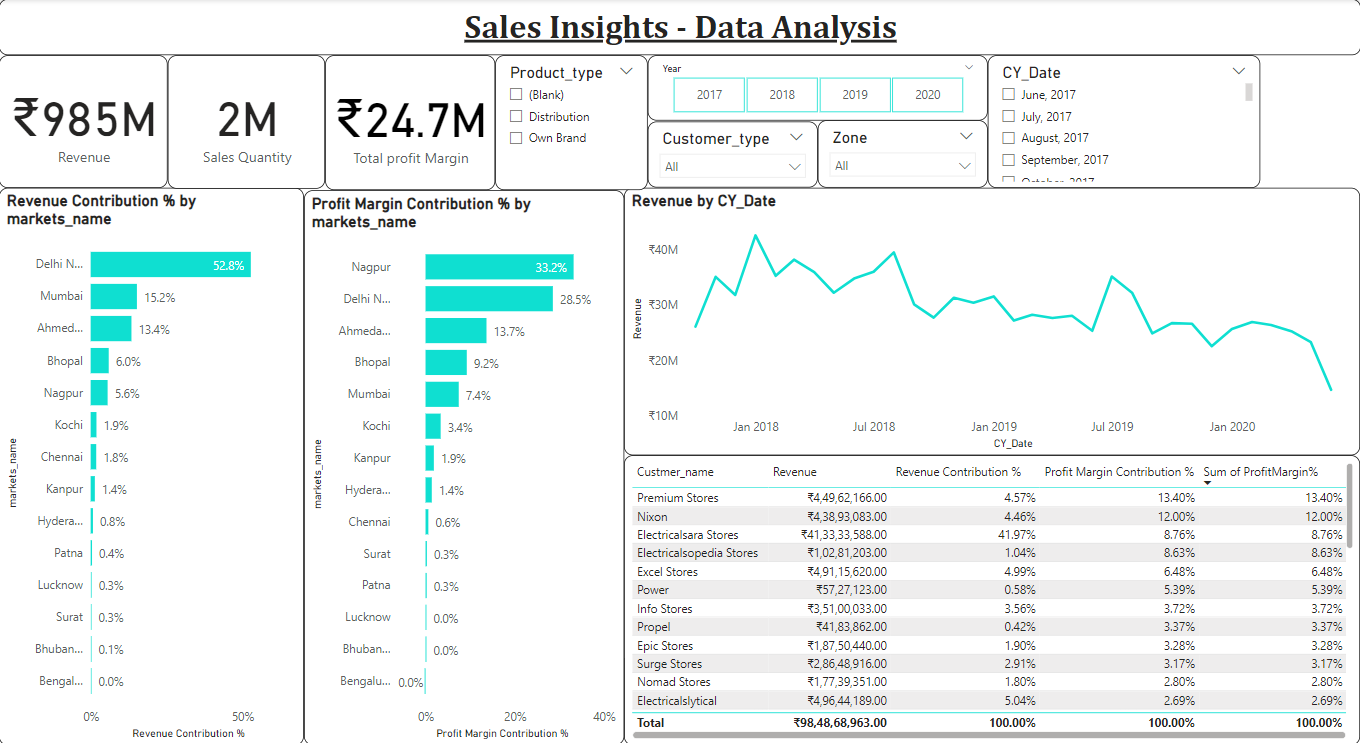

What the dashboard file says about the page in this screenshot:
{"tool":"powerbi","page":{"name":"Performance Analysis Insights","canvas":[1550,850],"ordinal":2},"visuals":[{"type":"clusteredBarChart","title":"Revenue Contribution % by markets_name","fields":{"Y":["Basic Measures.Revenue Contribution %"],"Category":["sales market.markets_name"]},"box":[0,215,347.4,635],"z":0},{"type":"clusteredBarChart","title":"Profit Margin Contribution % by markets_name","fields":{"Category":["sales market.markets_name"],"Y":["Basic Measures.Profit Margin Contribution %"]},"box":[347.4,217.8,364.5,632.2],"z":1000},{"type":"tableEx","fields":{"Values":["sales Customer.custmer_name","Basic Measures.Revenue","Basic Measures.Revenue Contribution %","Basic Measures.Profit Margin Contribution %","Sum(sales transactions.ProfitMargin%)"]},"box":[711.9,519.7,838.6,330.3],"z":2000},{"type":"card","fields":{"Values":["Basic Measures.Revenue"]},"box":[0,64.1,192.2,150.9],"z":3000},{"type":"card","fields":{"Values":["Sum(sales transactions.sales_qty)"]},"box":[192.2,64.1,179.4,152.3],"z":4000},{"type":"card","fields":{"Values":["Sum(sales transactions.Profit_Margin)"]},"box":[371.6,64.1,193.6,153.8],"z":5000},{"type":"lineChart","title":"Revenue by CY_Date","fields":{"Y":["Basic Measures.Revenue"],"Category":["sales Date.cy_date.Variation.Date Hierarchy.Year","sales Date.cy_date.Variation.Date Hierarchy.Quarter","sales Date.cy_date.Variation.Date Hierarchy.Month","sales Date.cy_date.Variation.Date Hierarchy.Day"]},"box":[711.9,215,838.6,304.7],"z":6000},{"type":"textbox","box":[0,0,1551,63.9],"z":7000},{"type":"slicer","fields":{"Values":["sales Date.year"]},"box":[738.9,64.1,387.3,74],"z":8000},{"type":"slicer","fields":{"Values":["sales product.product_type"]},"box":[565.2,64.1,173.7,153.8],"z":9000},{"type":"slicer","fields":{"Values":["sales Customer.customer_type"]},"box":[738.9,139.5,193.6,75.5],"z":10000},{"type":"slicer","fields":{"Values":["sales market.zone"]},"box":[932.6,138.1,193.6,76.9],"z":11000},{"type":"slicer","fields":{"Values":["sales Date.cy_date"]},"box":[1126.2,64.1,310.4,150.9],"z":12000}]}

Visuals, with their boxes in screenshot pixels (x1, y1, x2, y2), scaled from the page's 1550x850 canvas onto the 1360x743 screenshot:
"Revenue Contribution % by markets_name" clusteredBarChart: pyautogui.locateOnScreen(0, 188, 305, 742)
"Profit Margin Contribution % by markets_name" clusteredBarChart: pyautogui.locateOnScreen(305, 190, 625, 742)
tableEx - sales Customer.custmer_name x Basic Measures.Revenue: pyautogui.locateOnScreen(625, 454, 1359, 742)
card - Basic Measures.Revenue: pyautogui.locateOnScreen(0, 56, 169, 188)
card - Sum(sales transactions.sales_qty): pyautogui.locateOnScreen(169, 56, 326, 189)
card - Sum(sales transactions.Profit_Margin): pyautogui.locateOnScreen(326, 56, 496, 190)
"Revenue by CY_Date" lineChart: pyautogui.locateOnScreen(625, 188, 1359, 454)
textbox: pyautogui.locateOnScreen(0, 0, 1359, 56)
slicer - sales Date.year: pyautogui.locateOnScreen(648, 56, 988, 121)
slicer - sales product.product_type: pyautogui.locateOnScreen(496, 56, 648, 190)
slicer - sales Customer.customer_type: pyautogui.locateOnScreen(648, 122, 818, 188)
slicer - sales market.zone: pyautogui.locateOnScreen(818, 121, 988, 188)
slicer - sales Date.cy_date: pyautogui.locateOnScreen(988, 56, 1261, 188)
